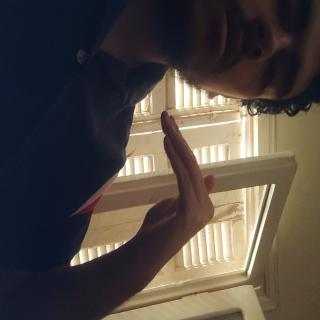KHAA: (74, 133, 206, 247)
